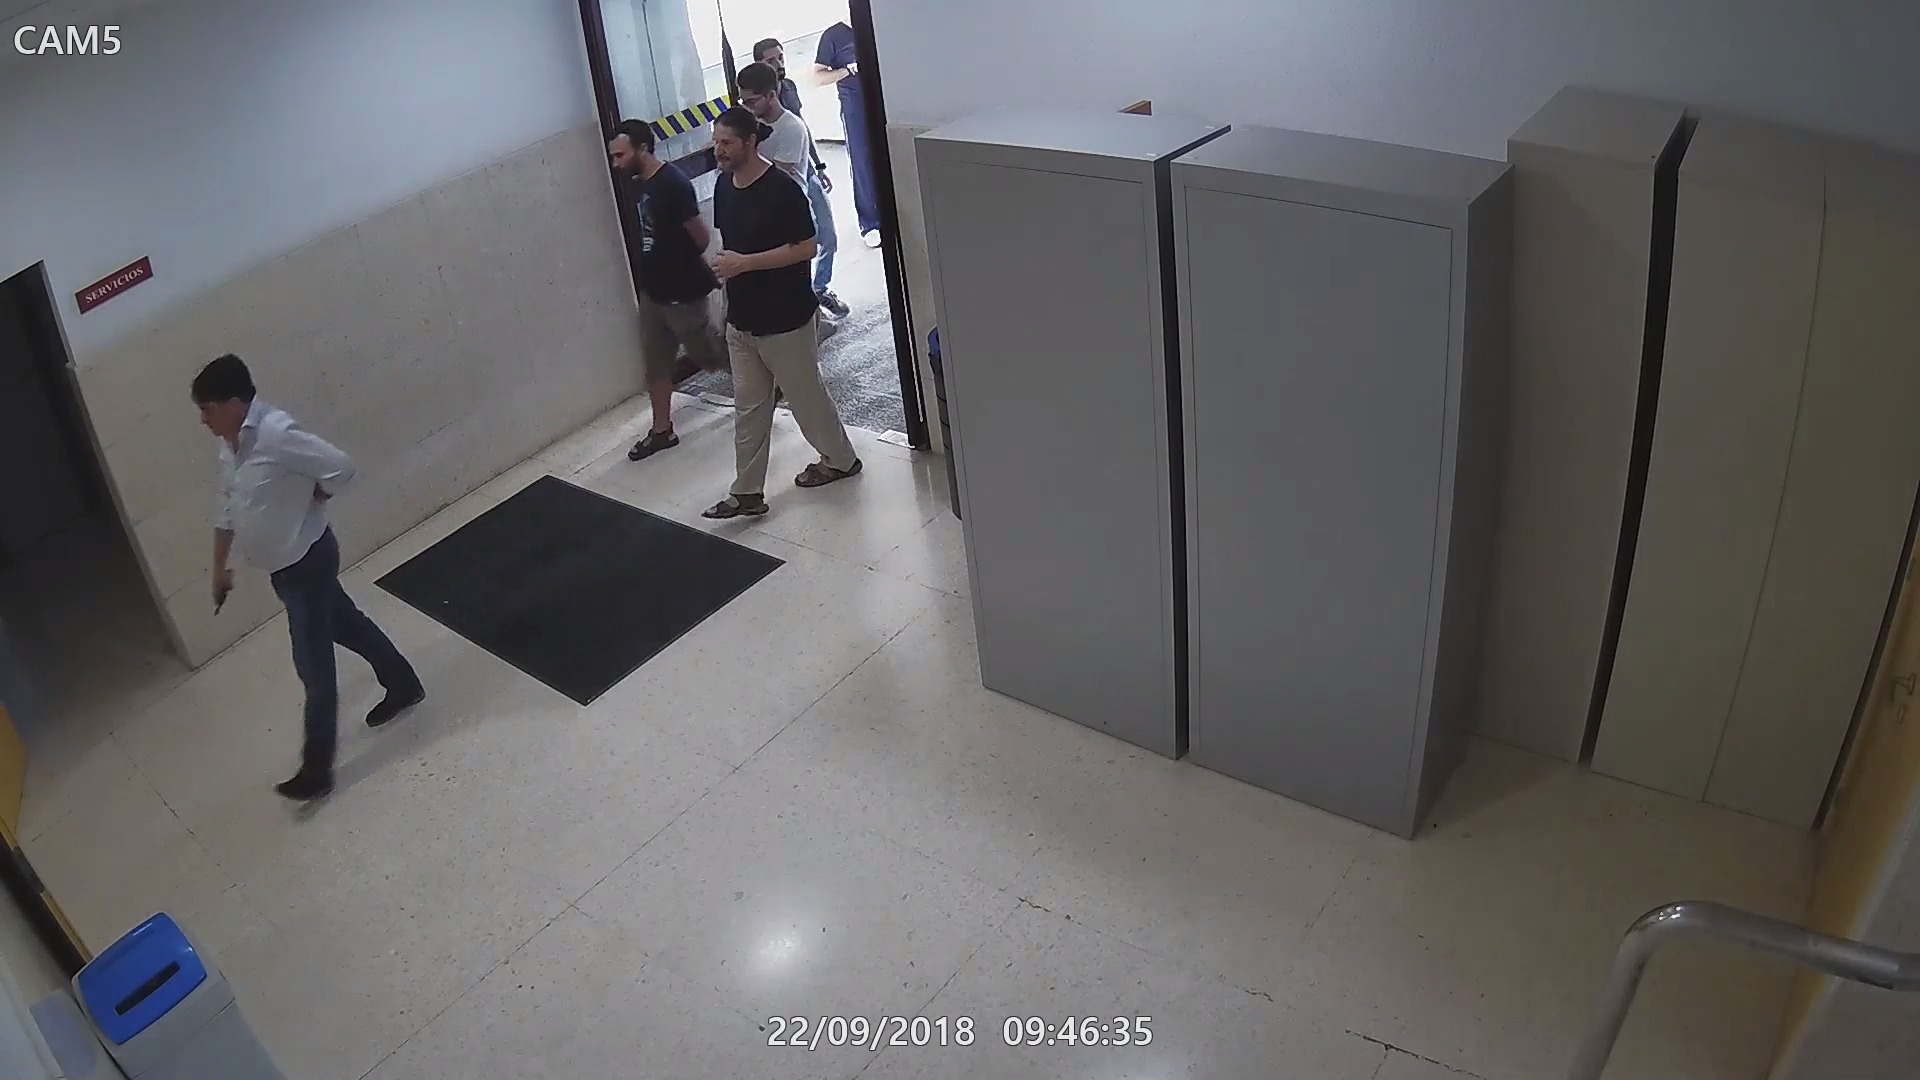Handgun: (208, 567, 236, 618)
